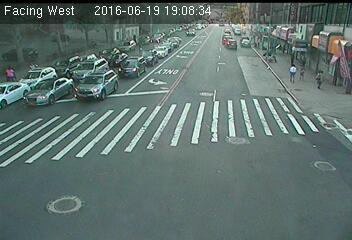pos: (311, 66, 328, 88), (286, 63, 300, 82), (4, 61, 18, 79)
